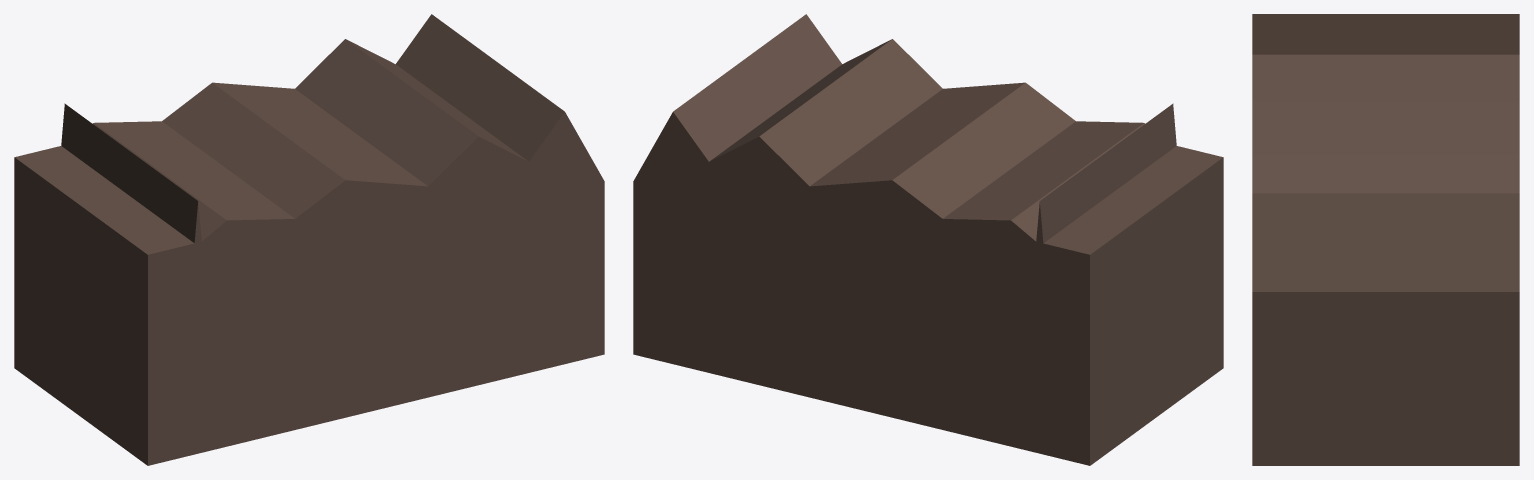
Rendered from bg_city_building_4_lod2.glb.
The picture shows the model from 3 angles, left to right: view 1: azimuth 30°, elevation 25°; view 2: azimuth 150°, elevation 25°; view 3: azimuth 270°, elevation 25°; orthographic projection.
Visible parts, largest first — view 1: body; view 2: body; view 3: body.
Boxes of the visible parts, x1,y1,x2,y2 form: body: (14, 14, 604, 465); body: (633, 14, 1223, 465); body: (1252, 14, 1519, 465).
Size of the model in its own units: 10 by 5.29 by 5.06.
